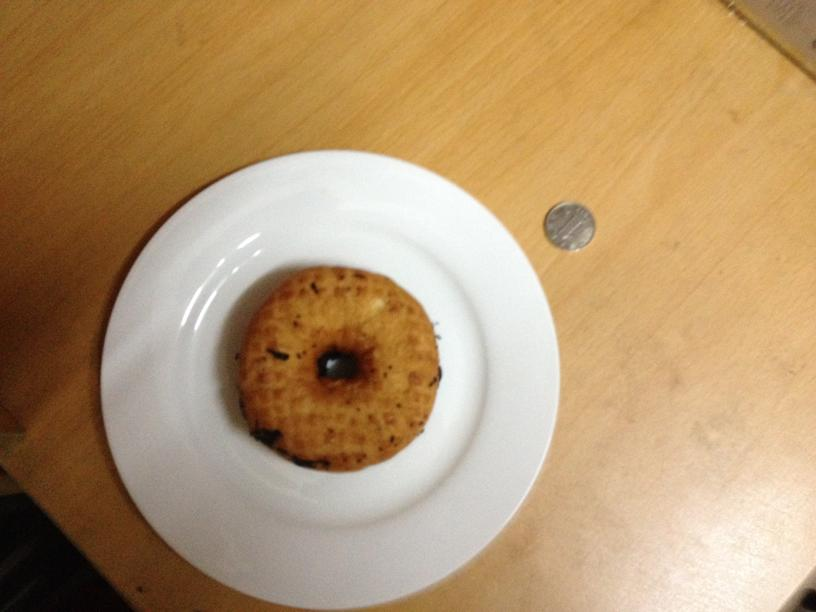coin: (540, 196, 596, 250)
doughnut: (232, 265, 437, 472)
